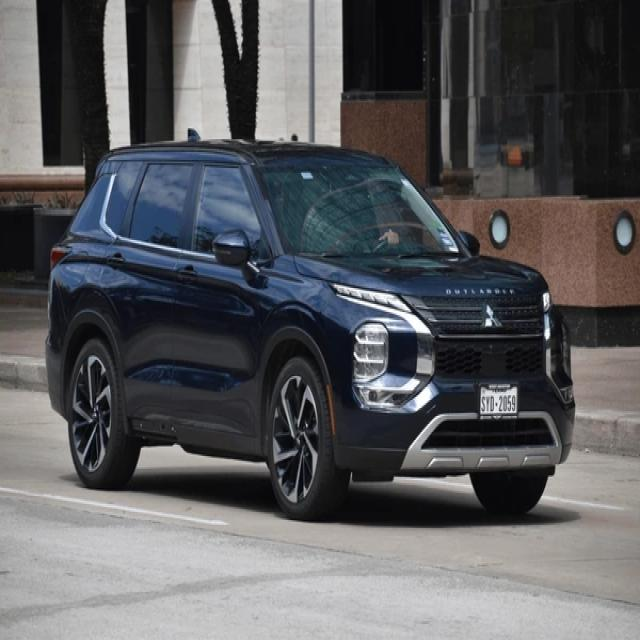mitsubishi: (476, 303, 504, 331)
